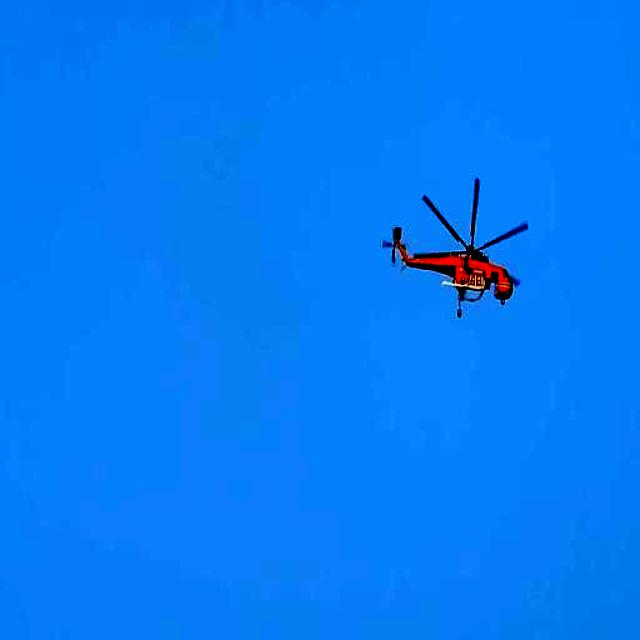drone: (375, 161, 541, 334)
